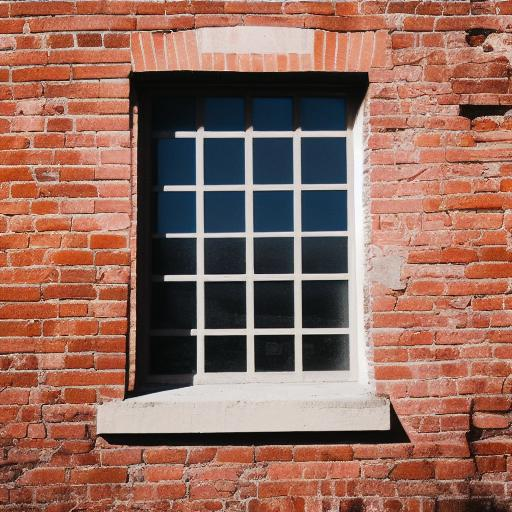Window: (91, 26, 393, 440)
